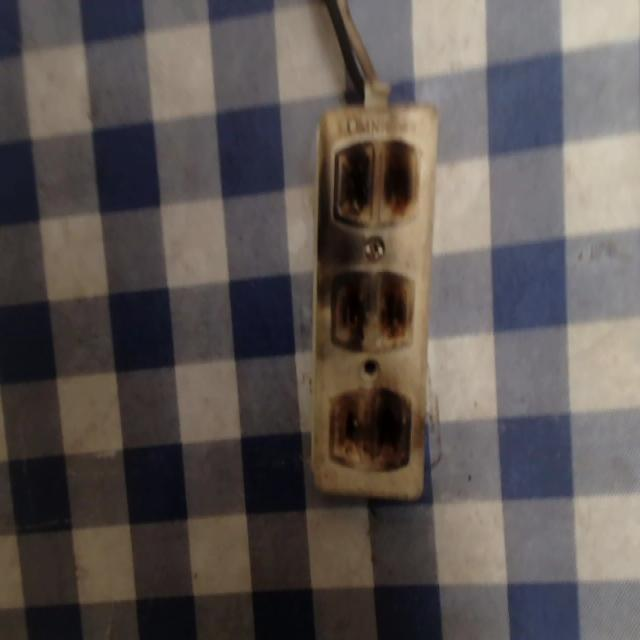-: (328, 132, 423, 235), (323, 381, 413, 476), (329, 269, 418, 355)
